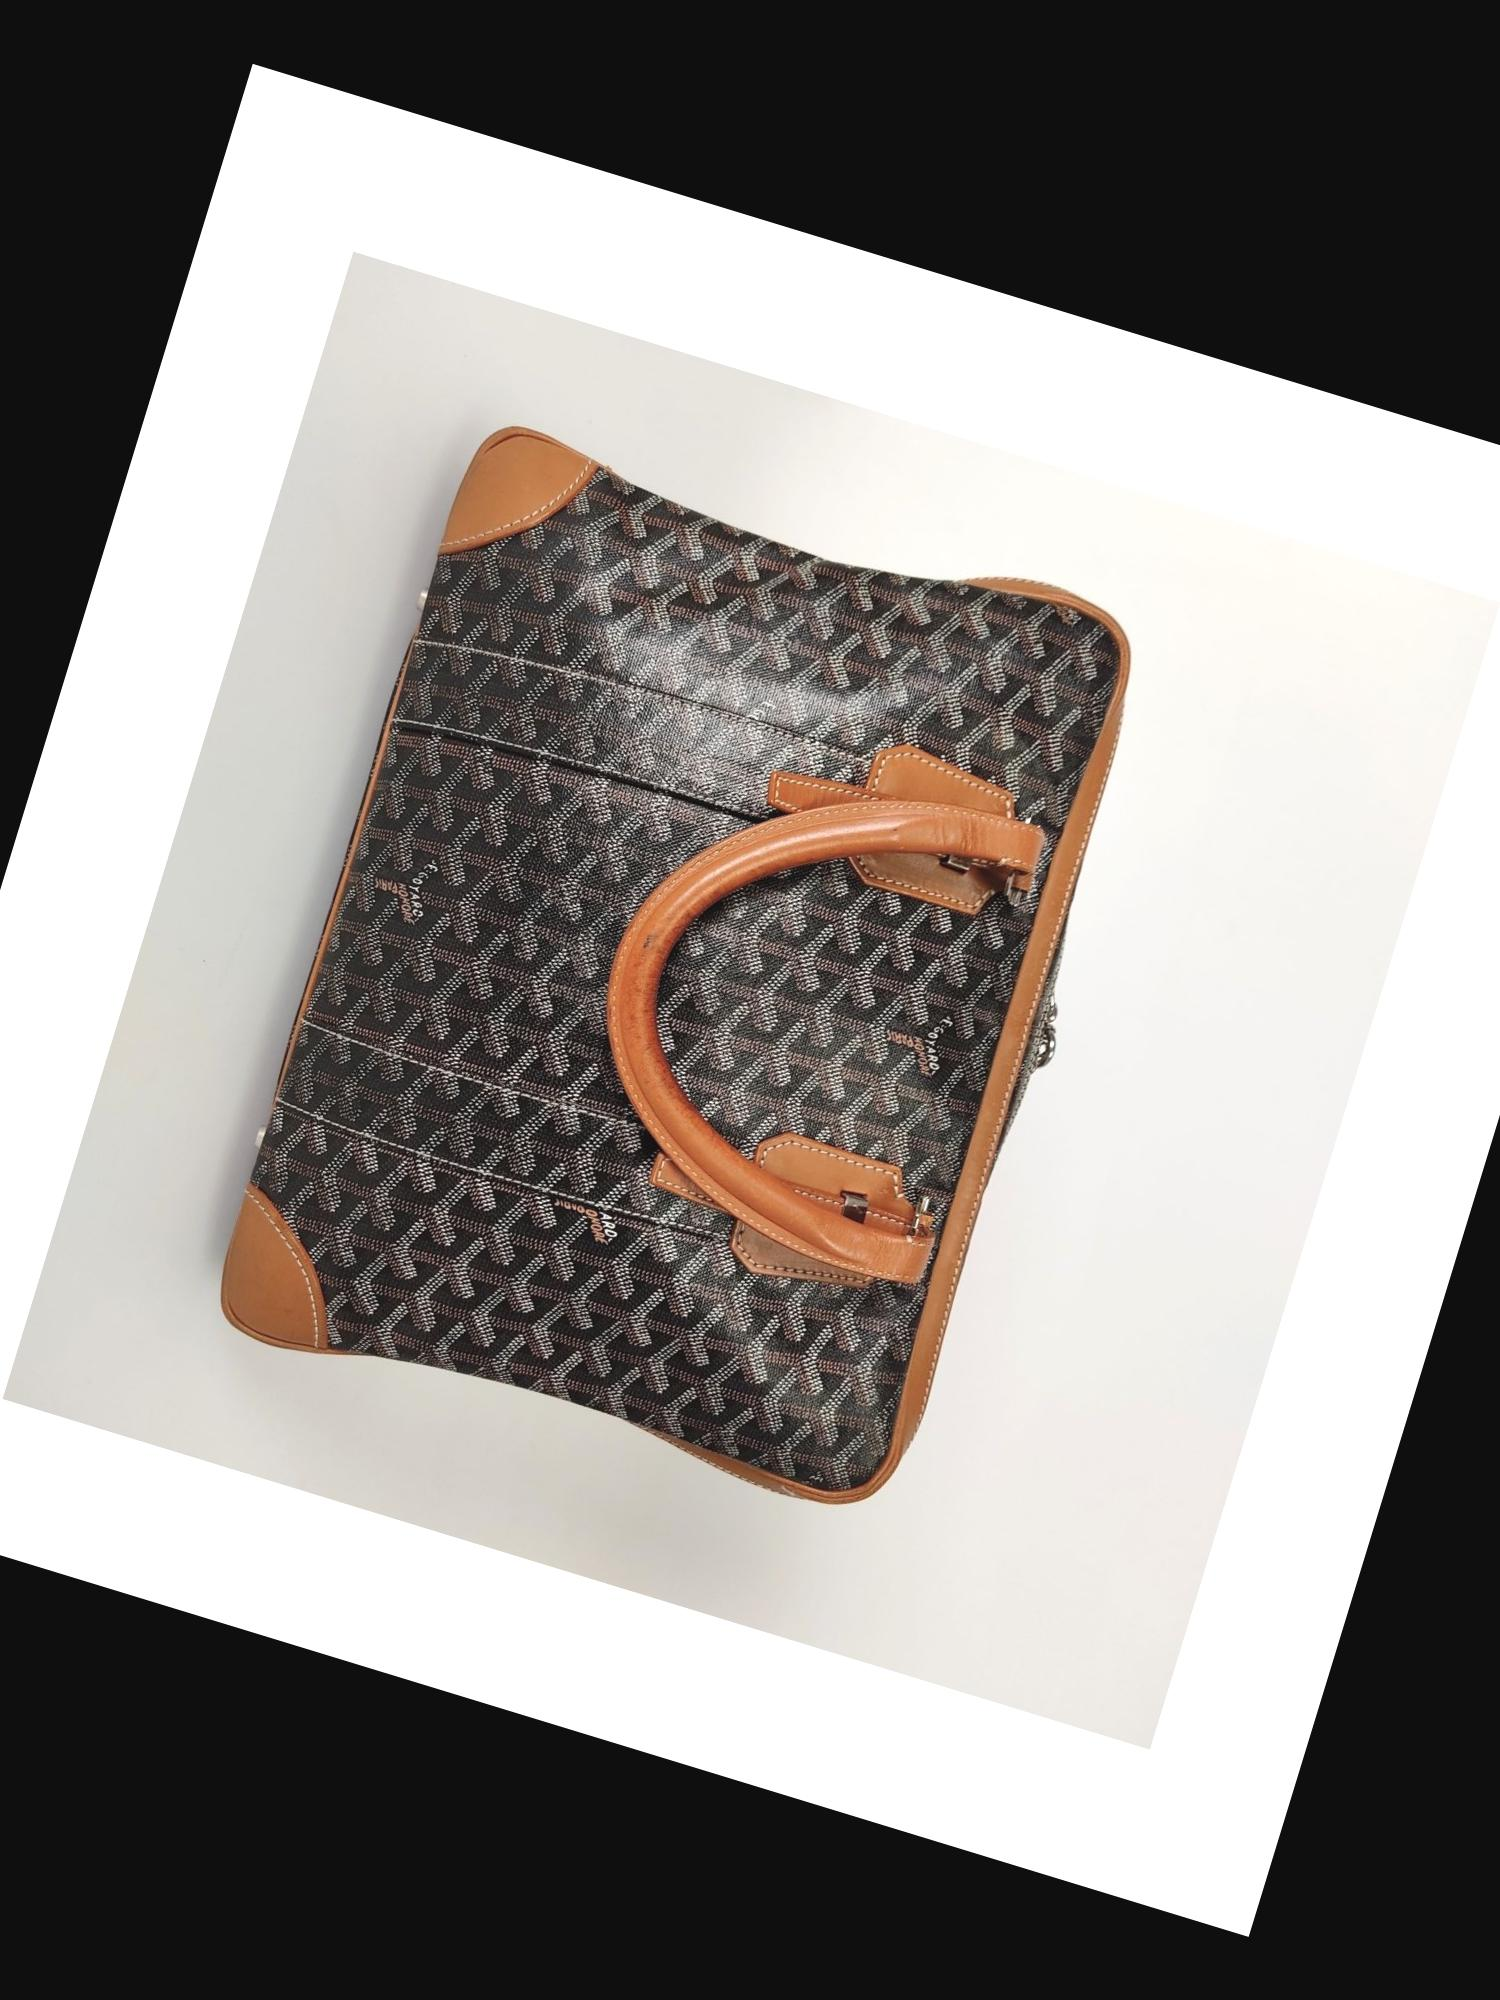GOYARD: (205, 427, 1134, 1517)
